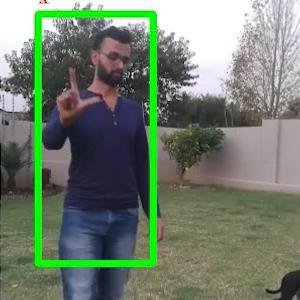land_hand: (52, 64, 103, 121)
